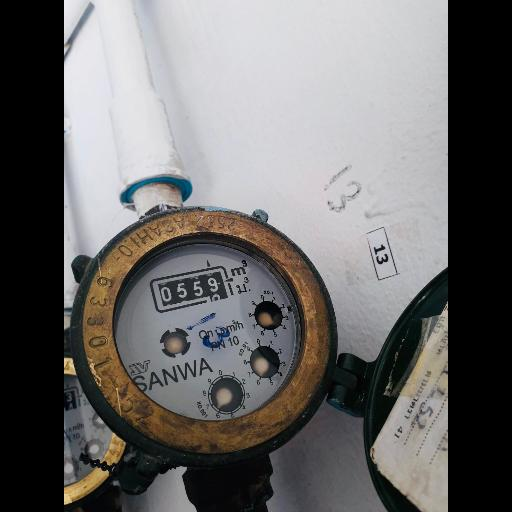0: (158, 280, 177, 306)
5: (187, 274, 210, 301), (171, 277, 192, 304)
9: (204, 270, 229, 303)
border_water_meter_number: (149, 262, 235, 314)
